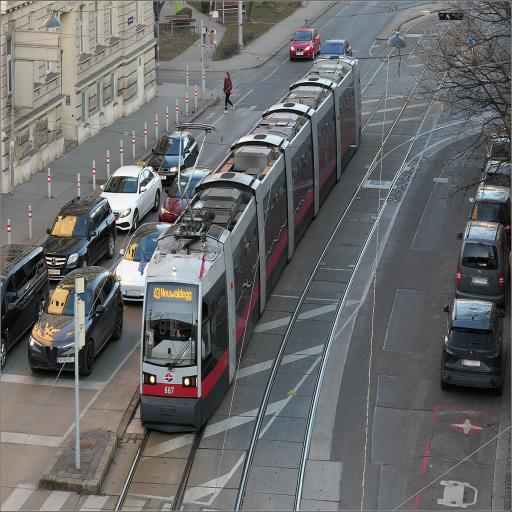ULF: (139, 56, 361, 428)
